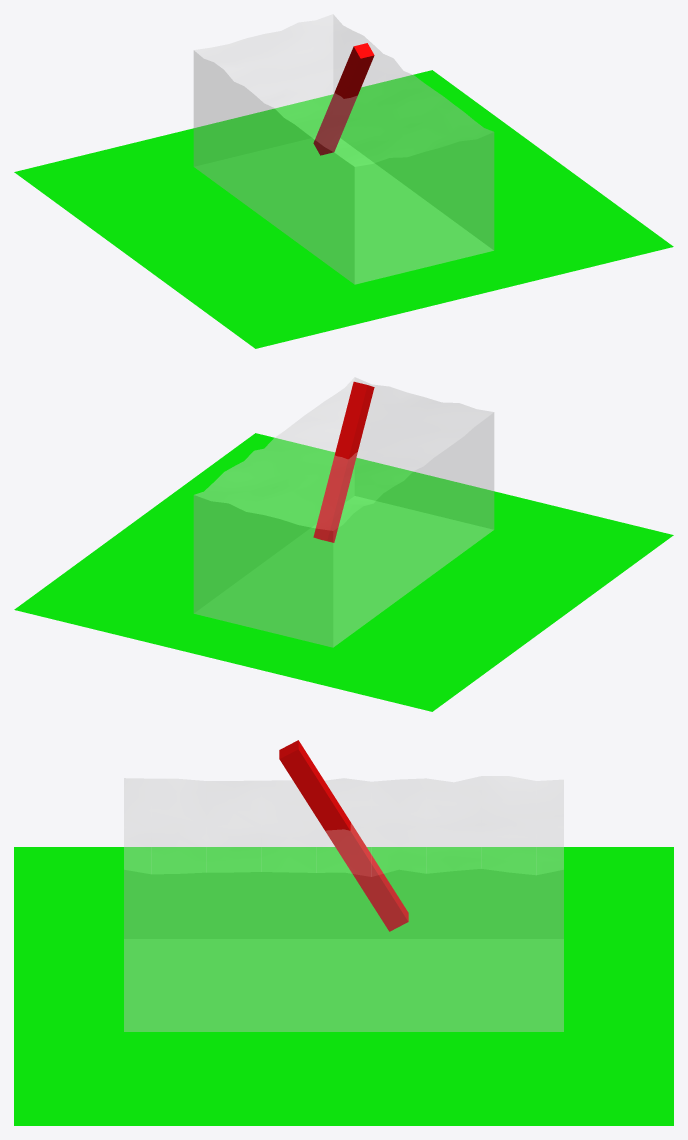
The model's file is water.glb.
3 views of the same model, one above another, from view 1: azimuth 30°, elevation 25°; view 2: azimuth 150°, elevation 25°; view 3: azimuth 270°, elevation 25° (orthographic). The views are drawn at different scales.
Parts seen in each view (by area): view 1: Plane, Cube, Cube.001; view 2: Plane, Cube, Cube.001; view 3: Plane, Cube, Cube.001.
Part boxes in pixels (left/top/right/bottom): Plane: left=14, top=70, right=673, bottom=348; Cube: left=194, top=14, right=493, bottom=284; Cube.001: left=313, top=43, right=374, bottom=155; Plane: left=14, top=433, right=673, bottom=711; Cube: left=194, top=377, right=493, bottom=647; Cube.001: left=313, top=381, right=374, bottom=542; Plane: left=14, top=847, right=673, bottom=1125; Cube: left=124, top=776, right=563, bottom=1031; Cube.001: left=279, top=740, right=408, bottom=931.
Bounding box in the file's own units: 6 × 2.43 × 6.
